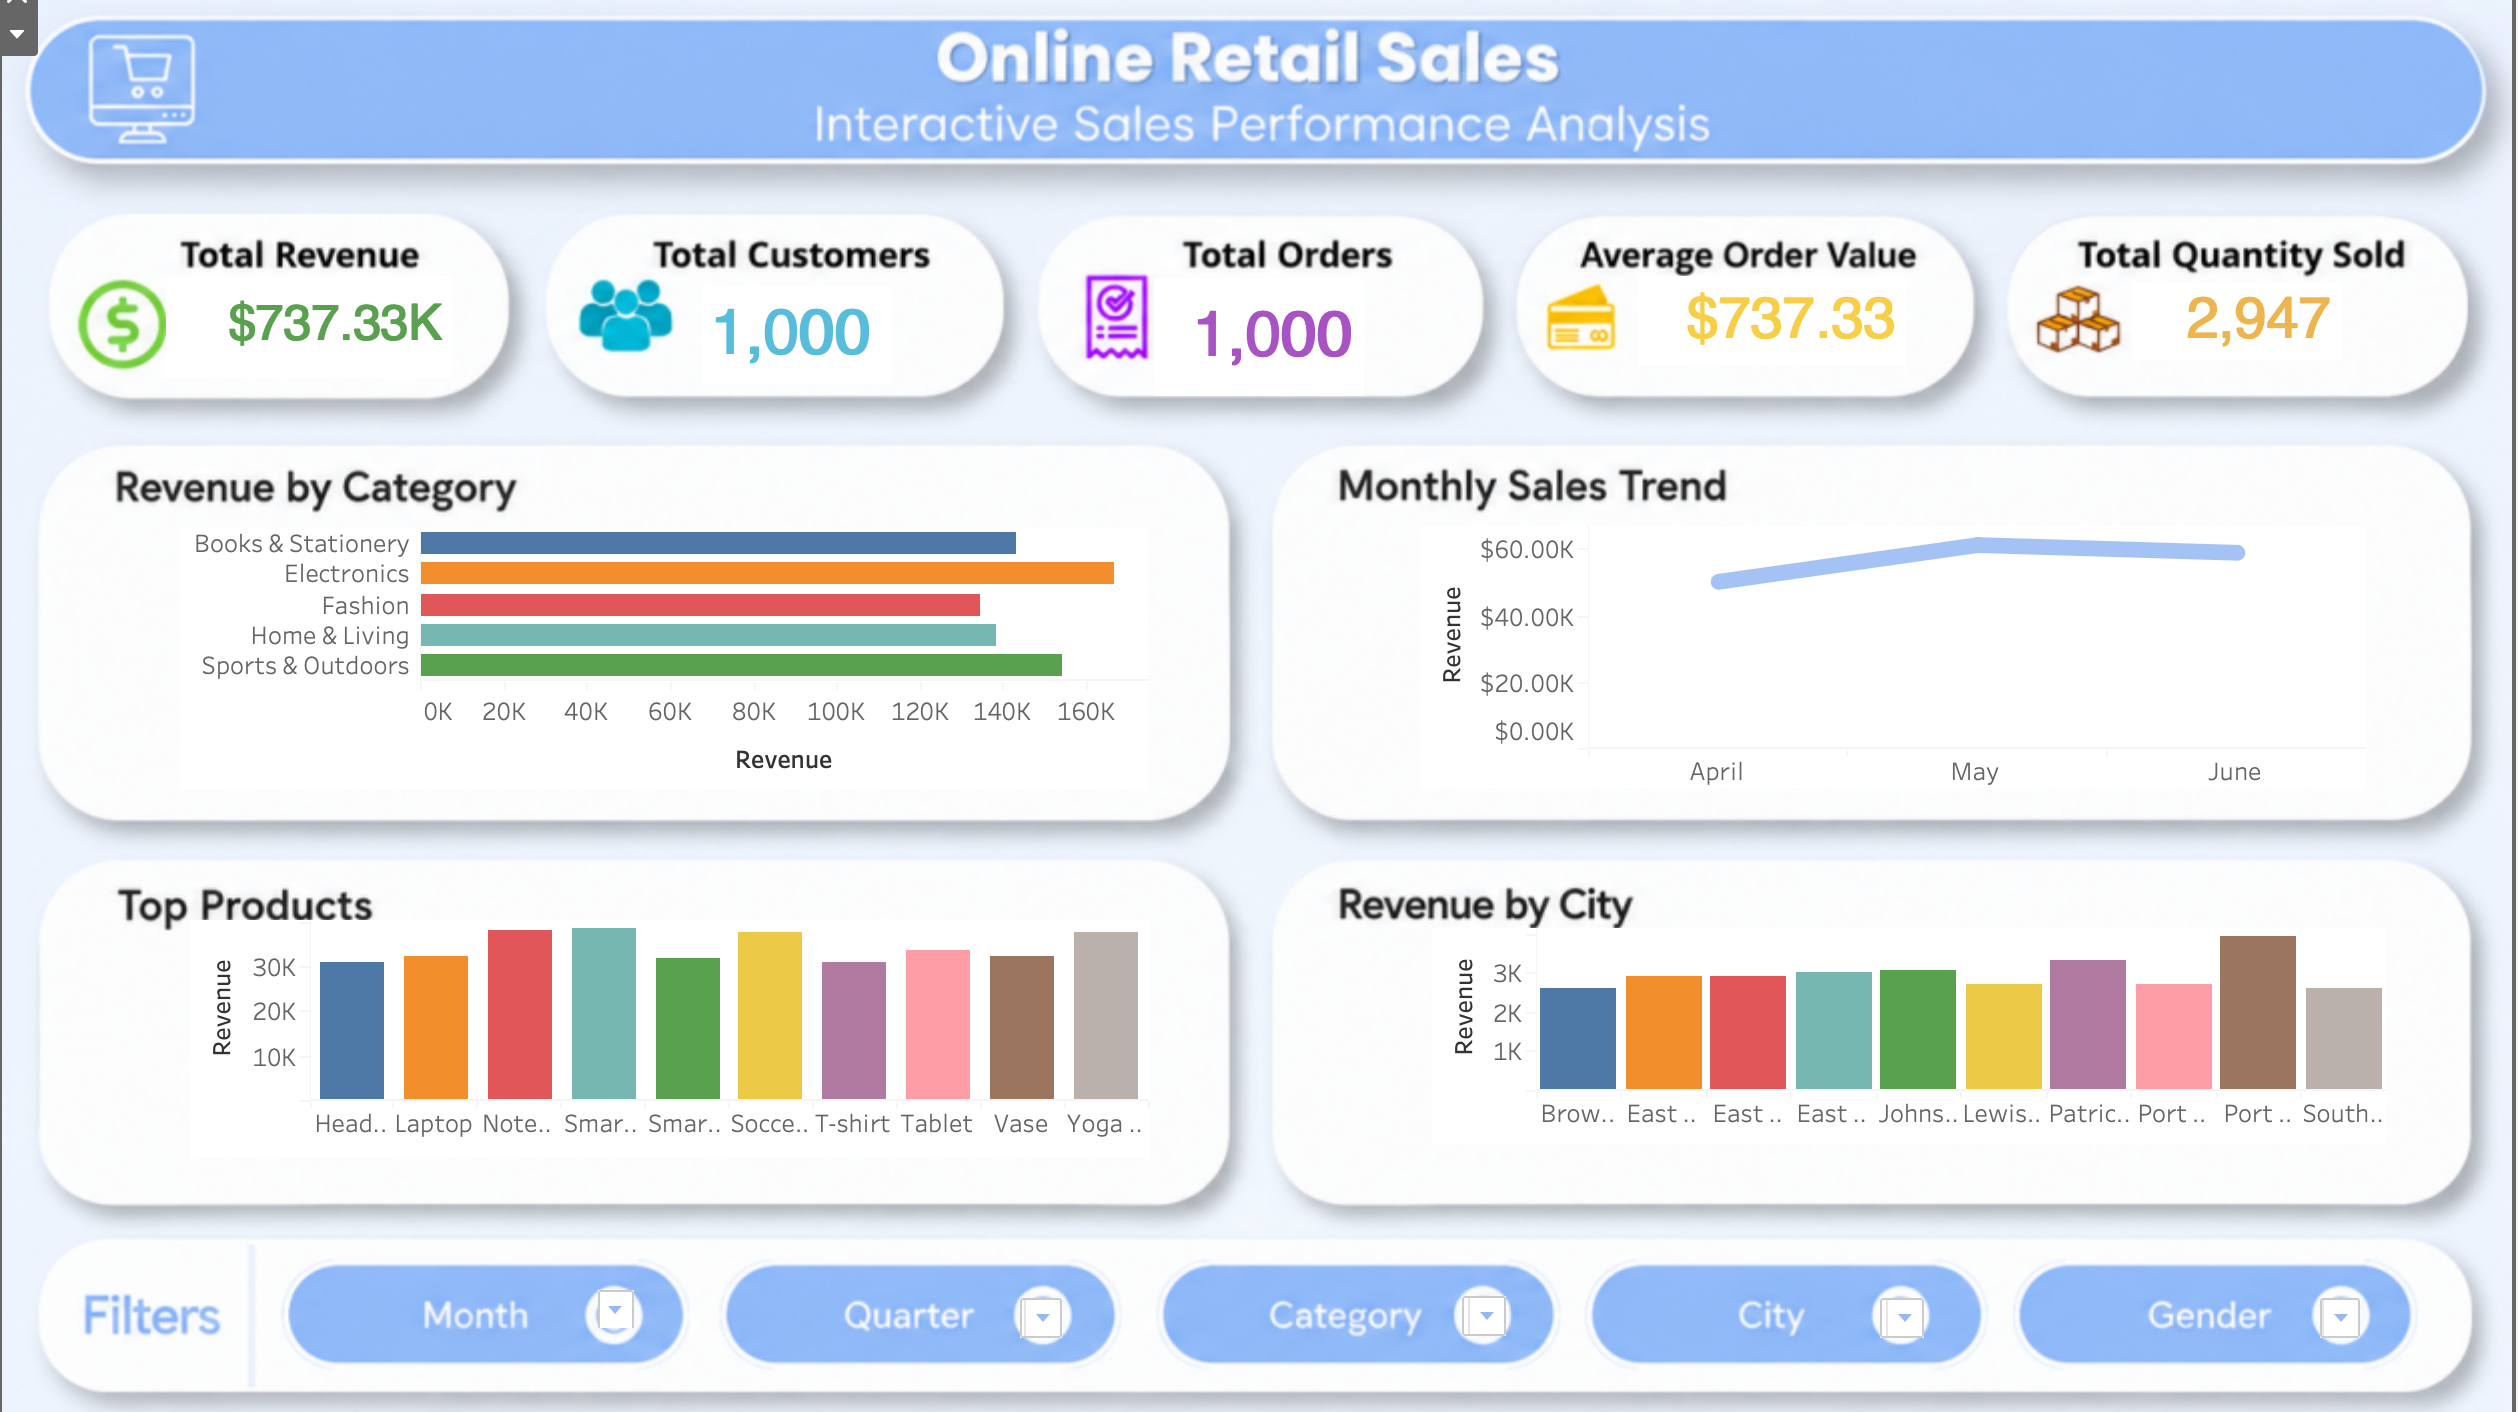

The page's visual inventory and layout, read from the dashboard file:
{"tool":"tableau","page":{"name":"Dashboard 1","canvas":[1000,1000],"units":"permille","ordinal":0},"visuals":[{"type":"worksheet","title":"Sheet 3","mark":"Automatic","box":[466.2,198.9,180.3,85.2]},{"type":"worksheet","title":"Sheet 1","mark":"Automatic","box":[65.1,205.7,127.9,75.8]},{"type":"worksheet","title":"Sheet 4","mark":"Automatic","box":[651.3,205.7,124.7,62.2]},{"type":"worksheet","title":"Sheet 2","mark":"Automatic","box":[279.6,209.7,92.1,62.2]},{"type":"worksheet","title":"Sheet 10","mark":"Automatic","rows":["gender"],"cols":["Revenue"],"box":[463.1,342.6,332.8,228.8]},{"type":"worksheet","title":"Sheet 7","mark":"Line","rows":["Revenue"],"cols":["Order Month"],"box":[564.7,374.2,375.7,178.3]},{"type":"worksheet","title":"Sheet 6","mark":"Automatic","rows":["category_name"],"cols":["Revenue"],"box":[72.3,376.2,384.4,177.4]},{"type":"worksheet","title":"Sheet 8","mark":"Automatic","rows":["Revenue"],"cols":["product_name"],"box":[76.2,641,381.2,161.8]},{"type":"worksheet","title":"Sheet 9","mark":"Bar","rows":["Revenue"],"cols":["city"],"box":[569.5,647.3,378.9,146.7]},{"type":"filter","title":"Sheet 7","param":"[federated.1046w4f0w1wjio1094dmk0l1doty].[none:Order Month:nk]","box":[235.9,891.8,19.1,25.7]},{"type":"filter","title":"Sheet 10","param":"[federated.1046w4f0w1wjio1094dmk0l1doty].[none:gender:nk]","box":[919.8,893.1,20.7,54.1]},{"type":"filter","title":"Sheet 8","param":"[federated.1046w4f0w1wjio1094dmk0l1doty].[Action (Category Name)]","box":[579,895.8,22.2,27.1]}]}

Visuals, with their boxes on the dashboard's canvas, which has no fixed pixel size, in thousandths of its width and height (x1, y1, x2, y2). These are canvas units, not pixel positions in the 2518x1412 screenshot, which may show the page scaled, cropped or inside an application window:
"Sheet 3" worksheet: left=466, top=199, right=646, bottom=284
"Sheet 1" worksheet: left=65, top=206, right=193, bottom=282
"Sheet 4" worksheet: left=651, top=206, right=776, bottom=268
"Sheet 2" worksheet: left=280, top=210, right=372, bottom=272
"Sheet 10" worksheet: left=463, top=343, right=796, bottom=571
"Sheet 7" worksheet (Line marks): left=565, top=374, right=940, bottom=552
"Sheet 6" worksheet: left=72, top=376, right=457, bottom=554
"Sheet 8" worksheet: left=76, top=641, right=457, bottom=803
"Sheet 9" worksheet (Bar marks): left=570, top=647, right=948, bottom=794
"Sheet 7" filter: left=236, top=892, right=255, bottom=918
"Sheet 10" filter: left=920, top=893, right=940, bottom=947
"Sheet 8" filter: left=579, top=896, right=601, bottom=923
